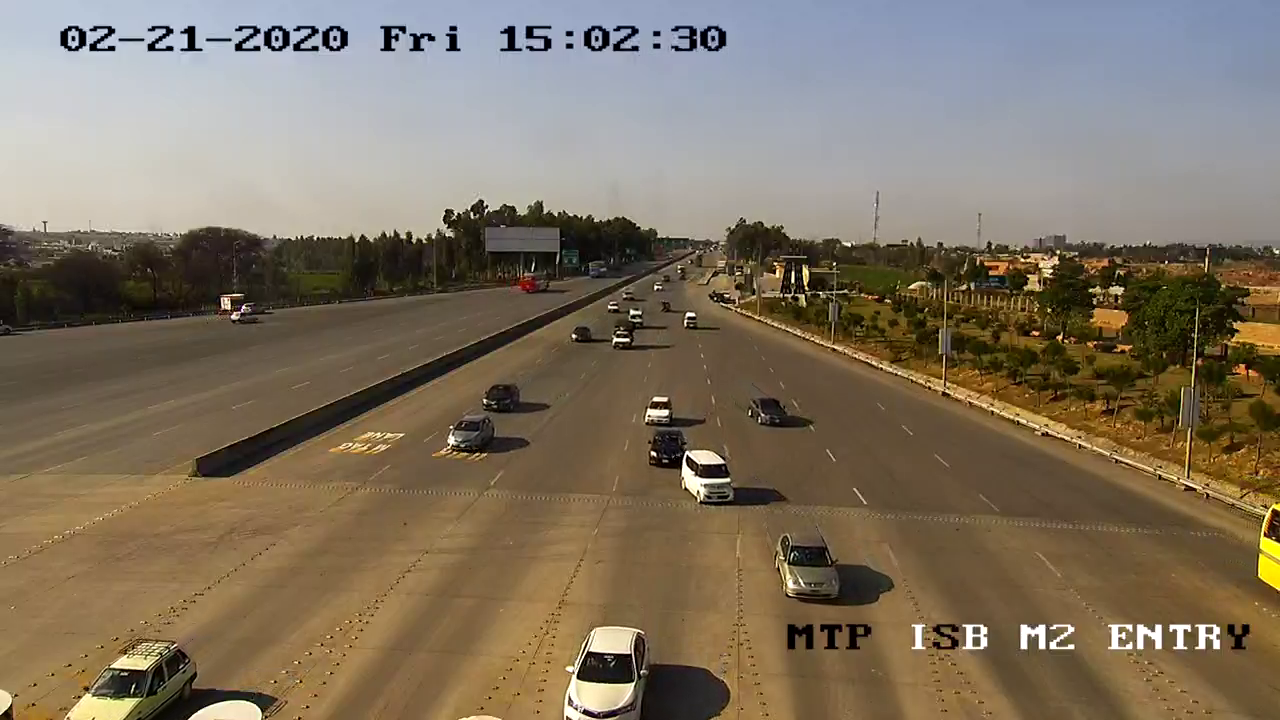f1: (51, 621, 209, 719), (546, 612, 662, 720), (759, 521, 852, 611), (672, 435, 751, 515), (435, 408, 505, 458), (741, 389, 797, 435)
